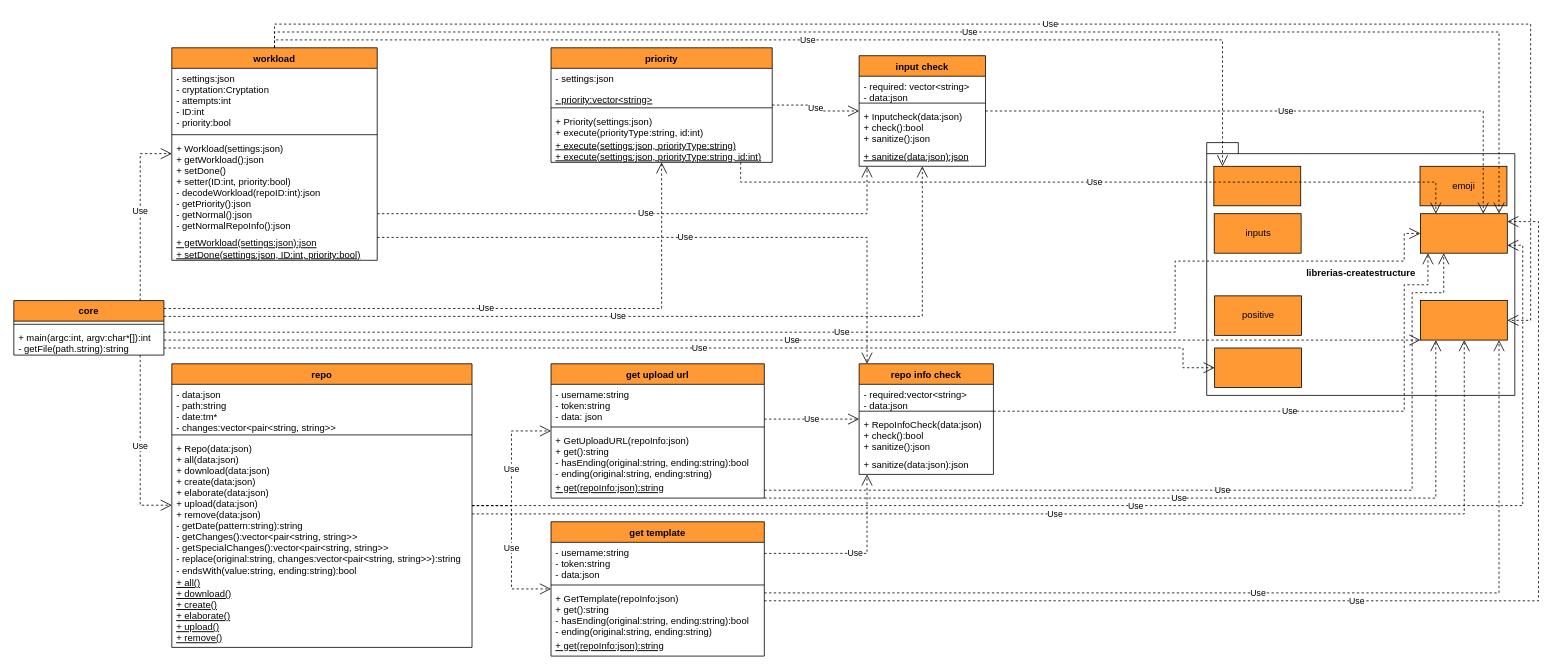
Image size: 1563x672. Some labels were removed from this diagram. Here are the shapes that lost their labels. From the top down, the centre of each, then its label:
At [1257,186]: "cryptation".
At [1463,233]: "json".
At [1463,320]: "rest".
At [1258,367]: "sleep".
